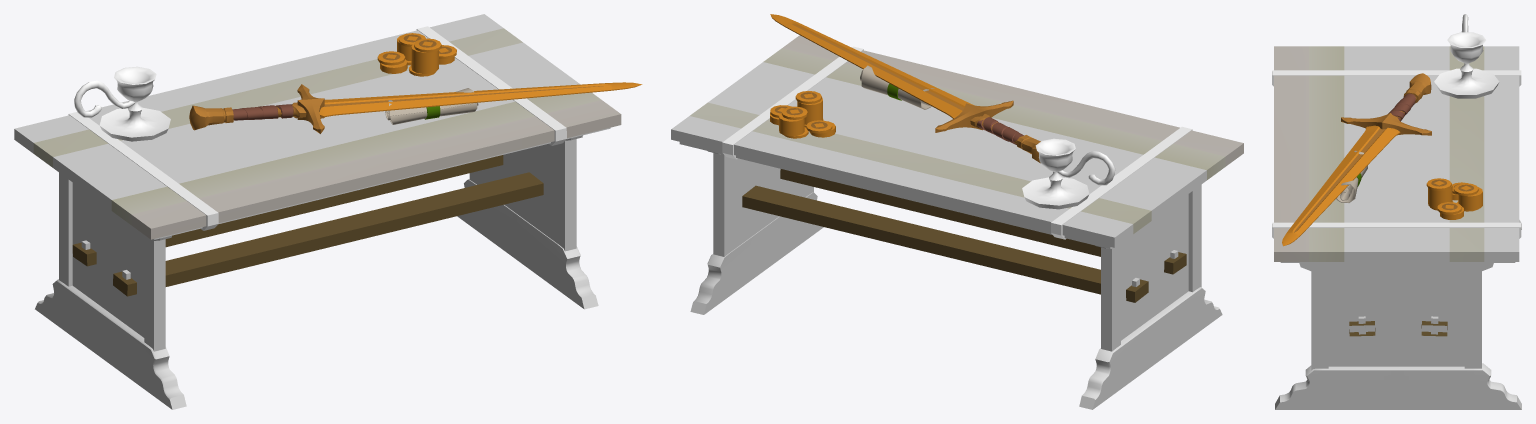
The model's file is war_table.glb.
The picture shows the model from 3 angles, left to right: view 1: azimuth 30°, elevation 25°; view 2: azimuth 150°, elevation 25°; view 3: azimuth 270°, elevation 25°; orthographic projection. The views are drawn at different scales.
Visible parts, largest first — view 1: Cube084, Sword_Bronze, CandleStick, Cube084_1, Coin_Pile, Cube152; view 2: Cube084, Sword_Bronze, CandleStick, Cube084_1, Coin_Pile, Cube152; view 3: Cube084, Sword_Bronze, Cube084_1, CandleStick, Coin_Pile, Cube152.
Part boxes in pixels (x1=…): Cube084: x1=14, y1=14, x2=621, y2=409; Sword_Bronze: x1=189, y1=82, x2=642, y2=133; CandleStick: x1=74, y1=66, x2=170, y2=141; Cube084_1: x1=68, y1=26, x2=566, y2=230; Coin_Pile: x1=377, y1=33, x2=456, y2=76; Cube152: x1=385, y1=88, x2=478, y2=124; Cube084: x1=671, y1=35, x2=1243, y2=409; Sword_Bronze: x1=770, y1=14, x2=1040, y2=163; CandleStick: x1=1022, y1=138, x2=1115, y2=209; Cube084_1: x1=722, y1=46, x2=1192, y2=239; Coin_Pile: x1=770, y1=91, x2=835, y2=138; Cube152: x1=860, y1=65, x2=934, y2=109; Cube084: x1=1274, y1=46, x2=1521, y2=409; Sword_Bronze: x1=1282, y1=73, x2=1431, y2=246; Cube084_1: x1=1272, y1=70, x2=1521, y2=238; CandleStick: x1=1434, y1=14, x2=1499, y2=98; Coin_Pile: x1=1426, y1=178, x2=1482, y2=219; Cube152: x1=1336, y1=150, x2=1367, y2=202.
Bounding box in the file's own units: 2.26 × 1.06 × 1.1.
